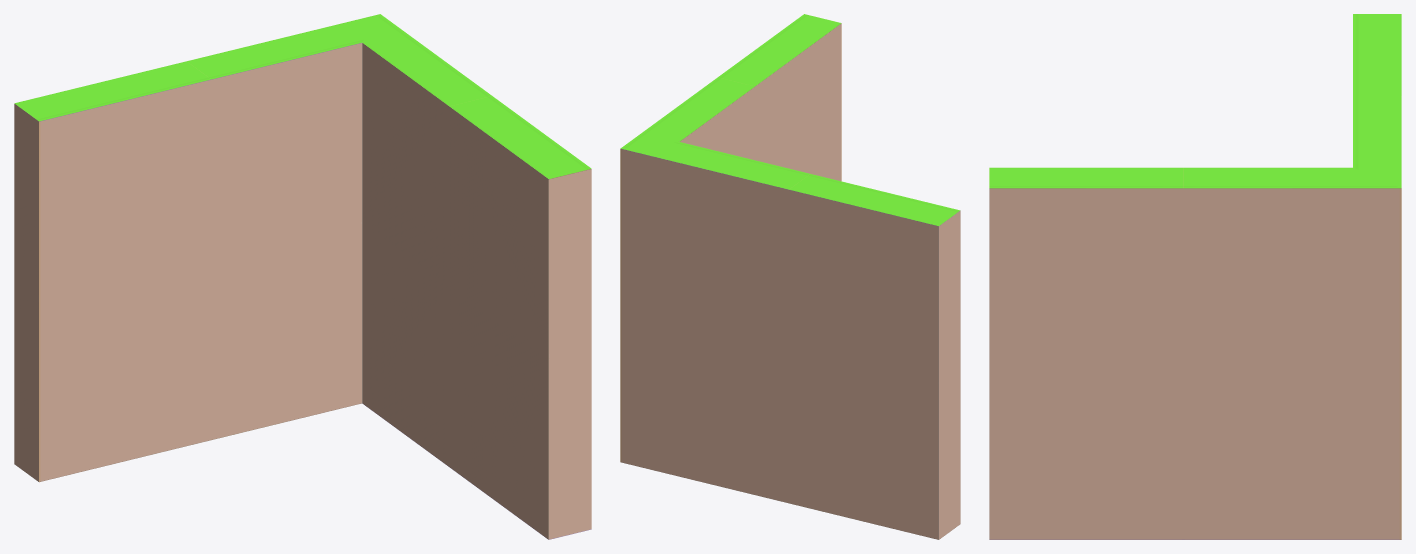
The model's file is MK_MK_Wall_Corner_Out_B.fbx.
3 renders of one model, left to right at view 1: azimuth 30°, elevation 25°; view 2: azimuth 150°, elevation 25°; view 3: azimuth 270°, elevation 25°, orthographic. The views are drawn at different scales.
Visible parts, largest first — view 1: MK_Wall_Corner_Out_B; view 2: MK_Wall_Corner_Out_B; view 3: MK_Wall_Corner_Out_B.
Part boxes in pixels (x1=…): MK_Wall_Corner_Out_B: x1=14, y1=14, x2=591, y2=539; MK_Wall_Corner_Out_B: x1=620, y1=14, x2=960, y2=539; MK_Wall_Corner_Out_B: x1=989, y1=14, x2=1401, y2=539.
Size of the model in its own units: 191 by 180 by 191.
1 material, 1 textured.
